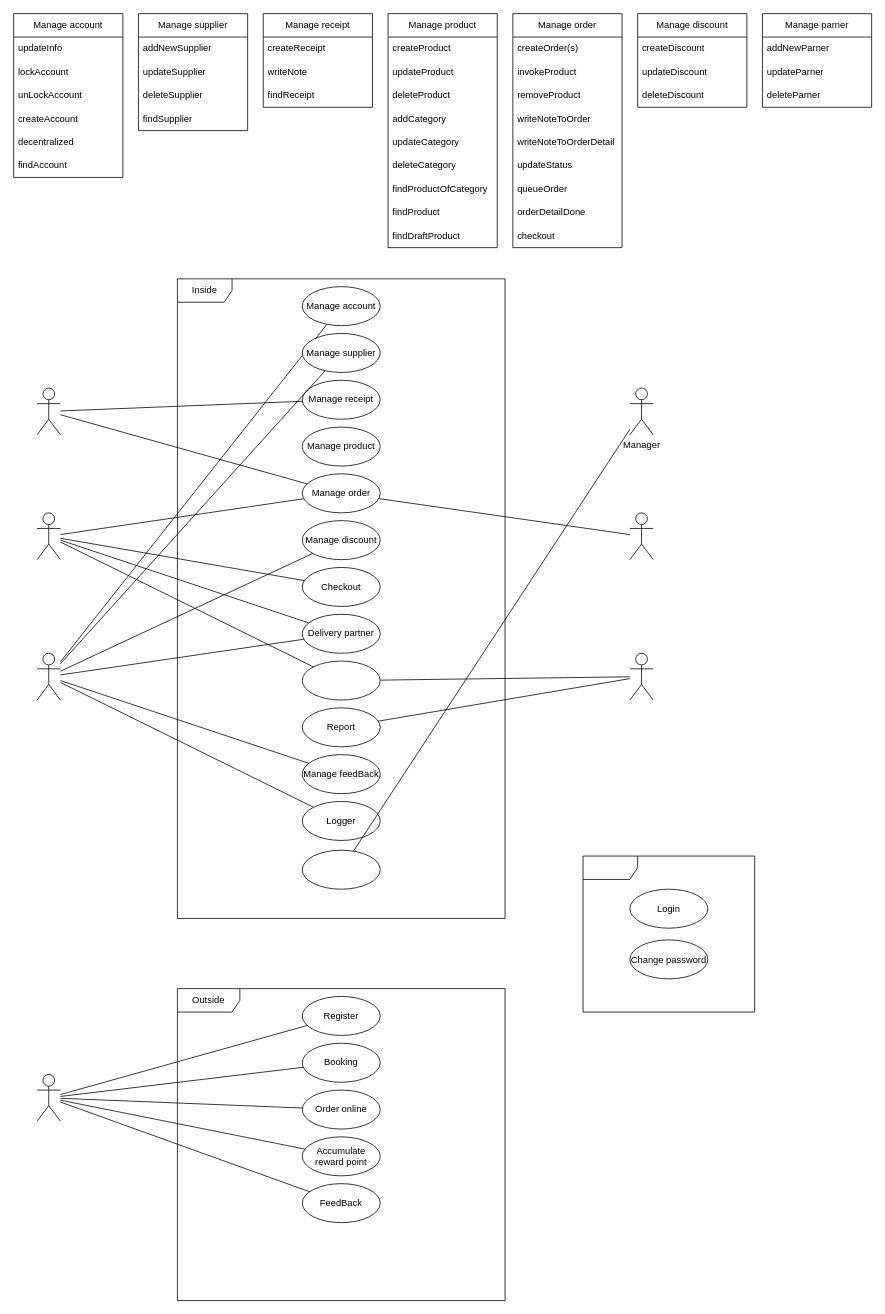
The diagram is 885 pixels wide and 1314 high, and some of its shapes have lost their labels. The centre of each missing label's shape, as x and y in pixels:
"Audit" goes at (x=48, y=536).
"Boss" goes at (x=641, y=676).
"Chef" goes at (x=641, y=536).
"Customer" goes at (x=48, y=1097).
"General" goes at (x=668, y=933).
"Manage staff" goes at (x=340, y=869).
"Reveune statistics" goes at (x=340, y=680).
"SM" goes at (x=48, y=676).
"Staff" goes at (x=48, y=411).
